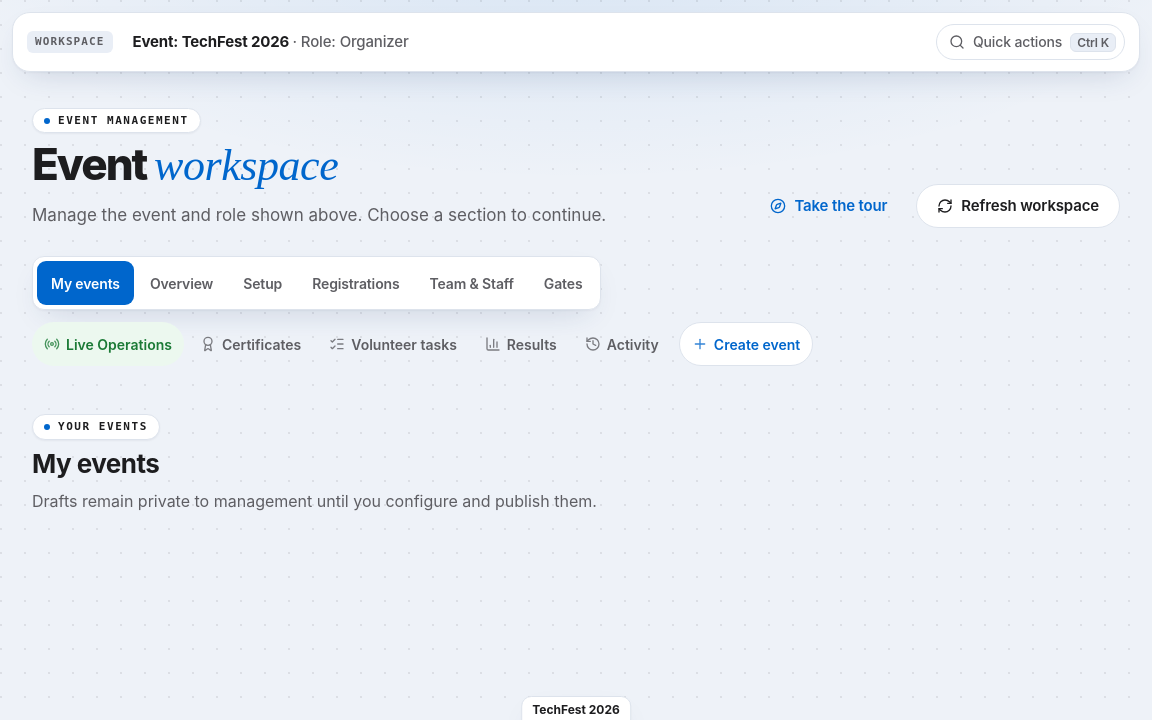
Test: P1-B workspace workflows › integrates staff into numbered gates and keeps their references secondary
This screenshot has width=1152, height=720.
What coordinates should you click on to do the following:
click the button "Gates"
I would click on:
 (563, 283)
Its box is [530, 261, 596, 305].
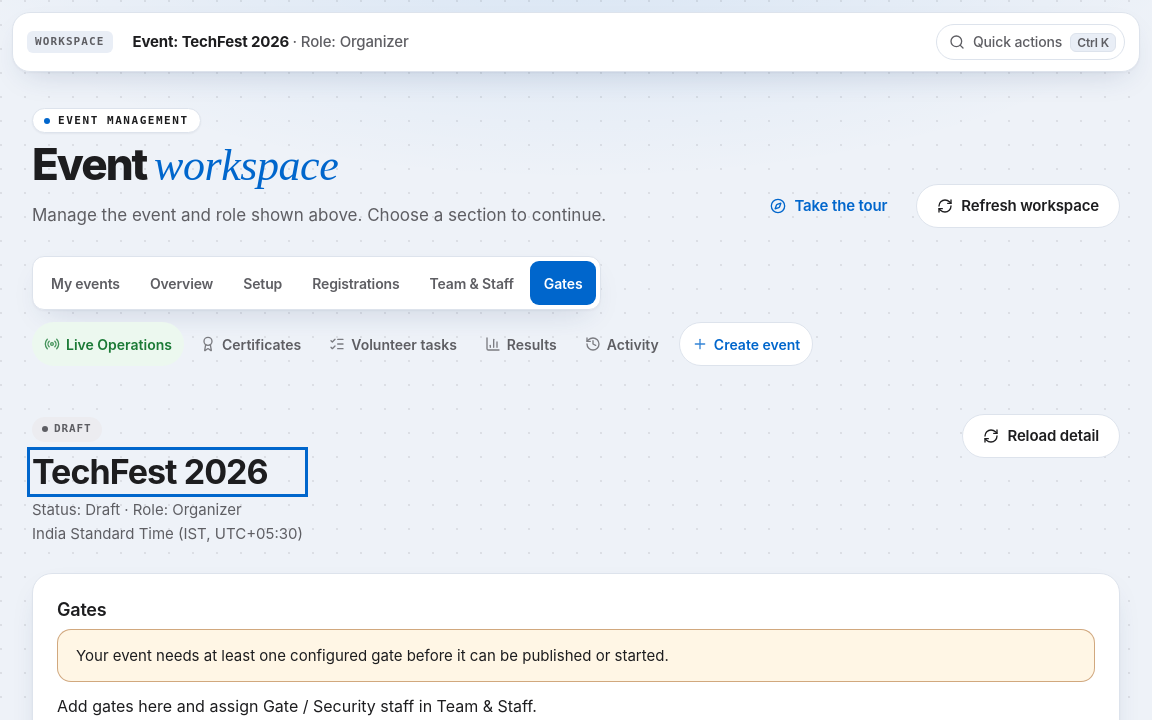
What coordinates should you click on to do the following:
click the button "Team & Staff"
I would click on:
 (472, 283)
Its box is [416, 261, 528, 305].
(page scrolled)
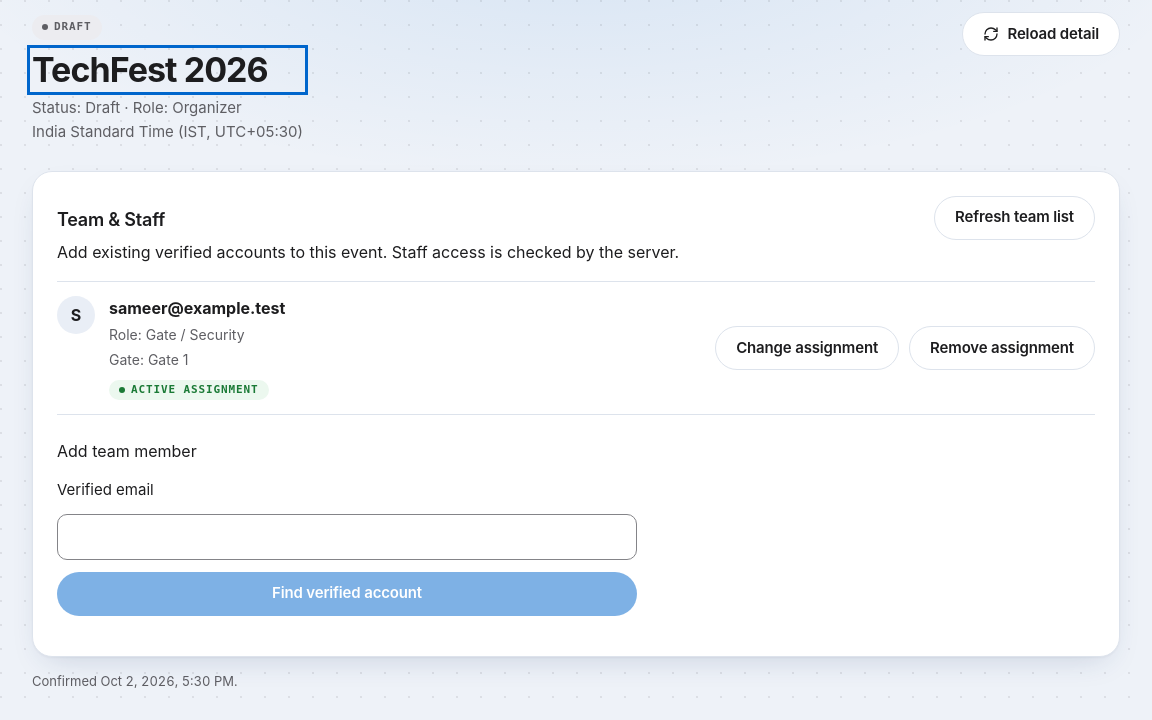
Now the text "Role: Gate / Security" is shown, box [109, 326, 244, 343]
Now the text "Gate: Gate 1" is shown, box [109, 351, 188, 368]
